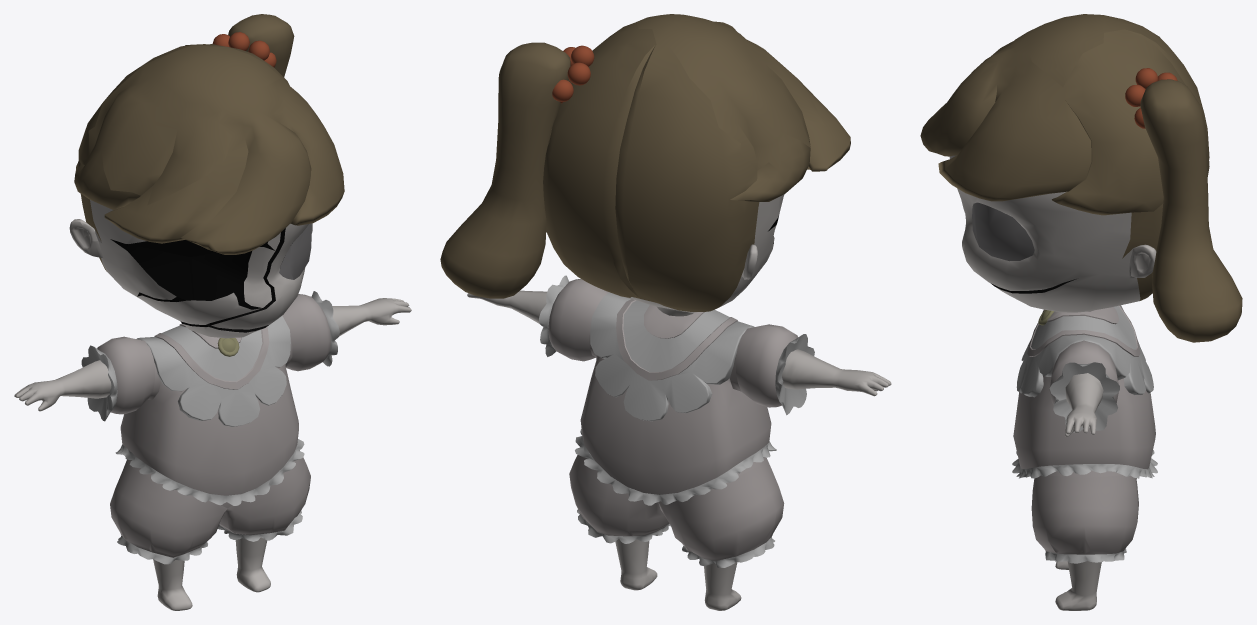
File: DOLL.fbx
3 renders of one model, left to right at view 1: azimuth 30°, elevation 25°; view 2: azimuth 150°, elevation 25°; view 3: azimuth 270°, elevation 25°, orthographic. The views are drawn at different scales.
Visible parts, largest first — view 1: hair, clothes, pants, face, shawl_white, body, hole1, lace, ponytail, shawl_pink, eye_L, hair_tie; view 2: hair, clothes, ponytail, pants, shawl_white, body, lace, shawl_pink, face, hair_tie; view 3: hair, ponytail, face, clothes, pants, shawl_white, lace, body, eye_L, shawl_pink, hair_tie.
Boxes of the visible parts, x1,y1,x2,y2 form: hair: [74, 44, 344, 271]; clothes: [97, 294, 330, 495]; pants: [110, 450, 310, 557]; face: [69, 200, 312, 338]; shawl_white: [136, 316, 290, 426]; body: [14, 298, 411, 610]; hole1: [110, 228, 292, 332]; lace: [81, 291, 339, 564]; ponytail: [228, 14, 294, 77]; shawl_pink: [154, 323, 269, 389]; eye_L: [279, 223, 311, 279]; hair_tie: [212, 32, 276, 67]; hair: [543, 14, 850, 311]; clothes: [548, 279, 798, 494]; ponytail: [440, 42, 570, 298]; pants: [569, 455, 784, 560]; shawl_white: [590, 292, 754, 421]; body: [467, 290, 891, 610]; lace: [539, 275, 814, 567]; shawl_pink: [616, 299, 737, 380]; face: [623, 194, 784, 316]; hair_tie: [552, 45, 594, 103]; hair: [920, 14, 1209, 300]; ponytail: [1140, 79, 1242, 342]; face: [949, 155, 1156, 312]; clothes: [1013, 340, 1155, 469]; pants: [1031, 465, 1138, 554]; shawl_white: [1016, 305, 1153, 397]; lace: [1012, 362, 1157, 563]; body: [1055, 373, 1103, 610]; eye_L: [972, 202, 1034, 261]; shawl_pink: [1027, 305, 1140, 356]; hair_tie: [1125, 68, 1177, 128].
Bounding box in the file's own units: 0.2329 × 0.307 × 0.1593.
